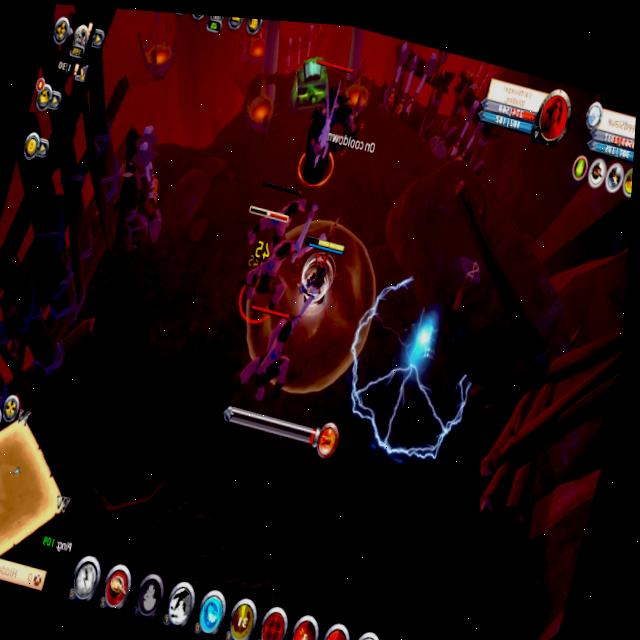ore: (281, 53, 378, 202), (218, 198, 301, 336), (222, 296, 305, 416), (240, 170, 326, 270)
red: (289, 229, 349, 328)
